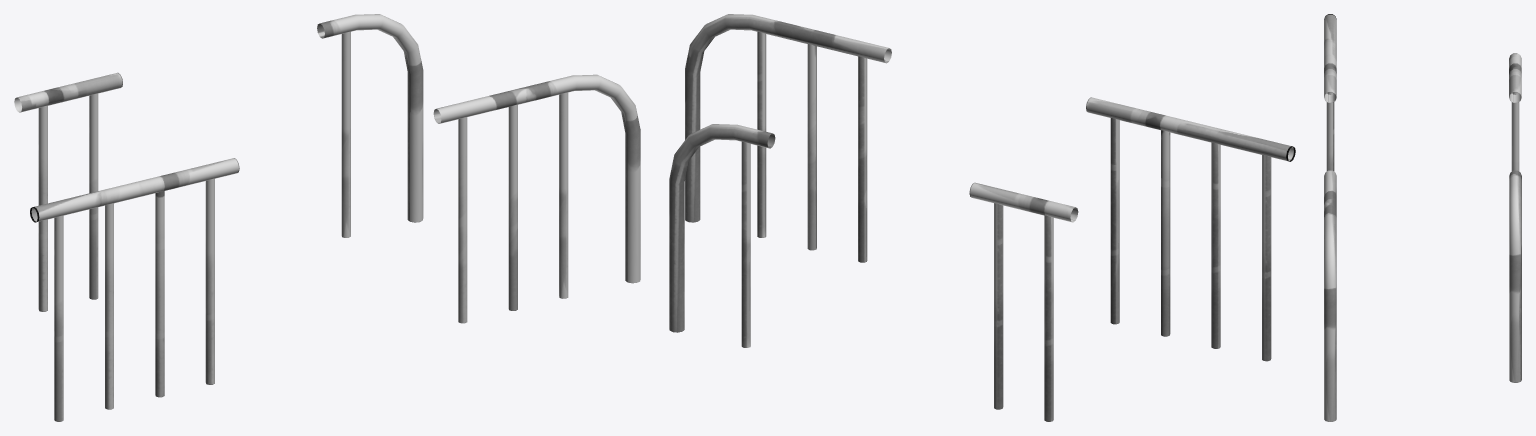
The model's file is Rails_Assets.fbx.
3 renders of one model, left to right at view 1: azimuth 30°, elevation 25°; view 2: azimuth 150°, elevation 25°; view 3: azimuth 270°, elevation 25°, orthographic. The views are drawn at different scales.
Visible parts, largest first — view 1: Rail1M, Rail_1M, RailEnd_05M, Rail_05M; view 2: Rail1M, Rail_1M, RailEnd_05M, Rail_05M; view 3: Rail1M, RailEnd_05M, Rail_1M, Rail_05M.
Part boxes in pixels (box(x1,y1,x2,y2)): Rail1M: box(433, 74, 640, 323); Rail_1M: box(30, 158, 239, 421); RailEnd_05M: box(317, 14, 423, 237); Rail_05M: box(14, 72, 122, 311); Rail1M: box(685, 14, 891, 262); Rail_1M: box(1086, 97, 1295, 361); RailEnd_05M: box(669, 124, 775, 347); Rail_05M: box(969, 182, 1078, 421); Rail1M: box(1324, 170, 1336, 421); RailEnd_05M: box(1509, 170, 1521, 382); Rail_1M: box(1324, 14, 1336, 171); Rail_05M: box(1509, 53, 1521, 171).
Size of the model in its own units: 300 by 107 by 103.
1 material, 1 textured.
